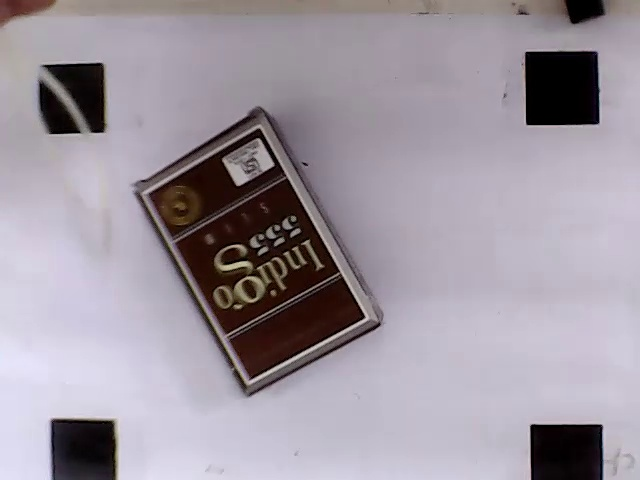BEX: (145, 123, 366, 382)
